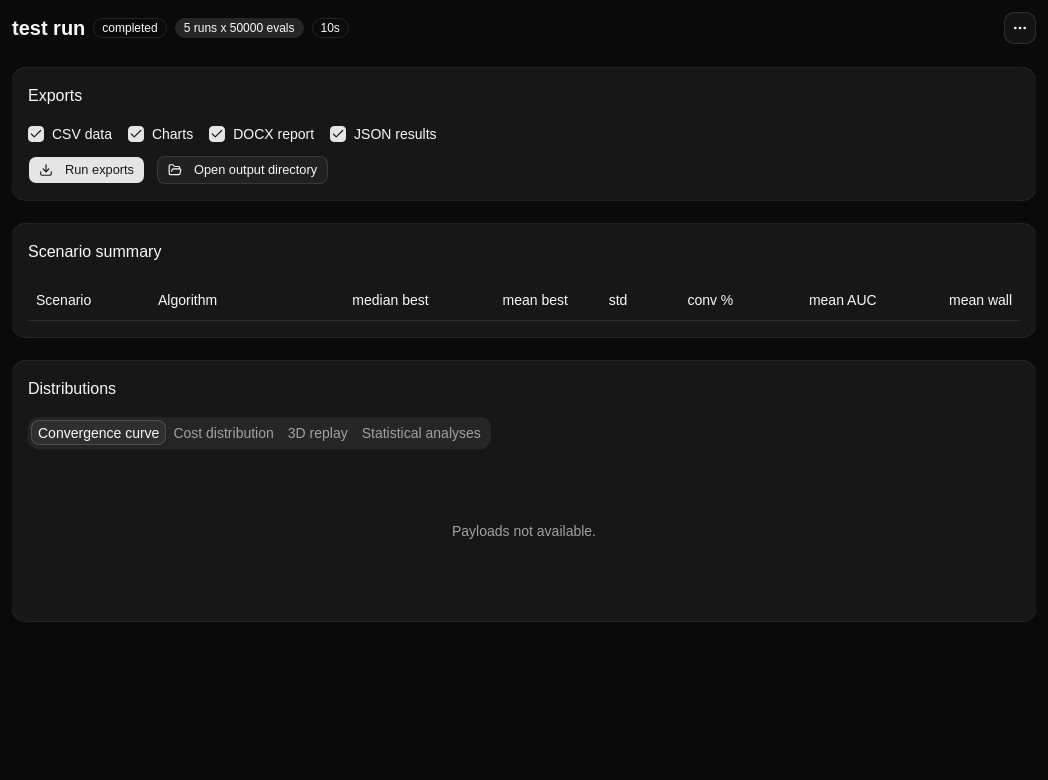
Test case: RunDetail analyses › shows the placeholder when the analysis computation fails
Click the tab "Statistical analyses": (421, 432) [355,420,488,445]
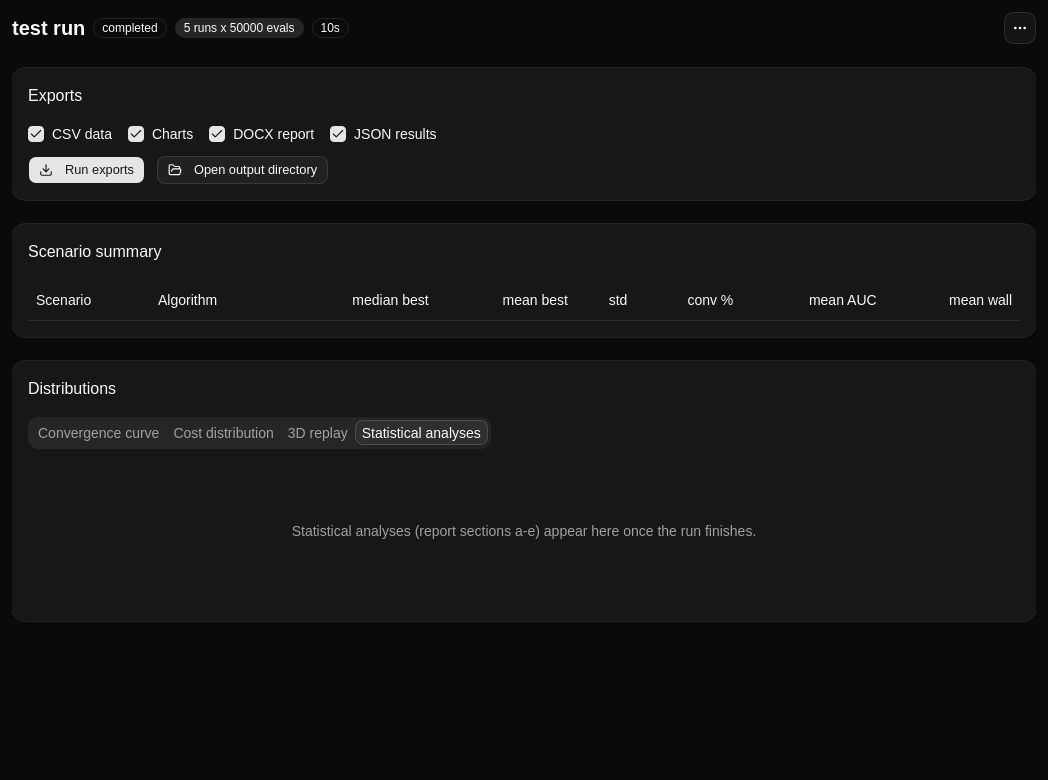
Expected: the text "appear here once the run finishes" is shown, [292,522,756,538]
